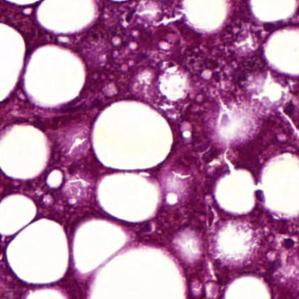steatosis: (91, 100, 173, 169), (0, 20, 26, 100), (1, 193, 38, 239), (223, 275, 272, 299)
